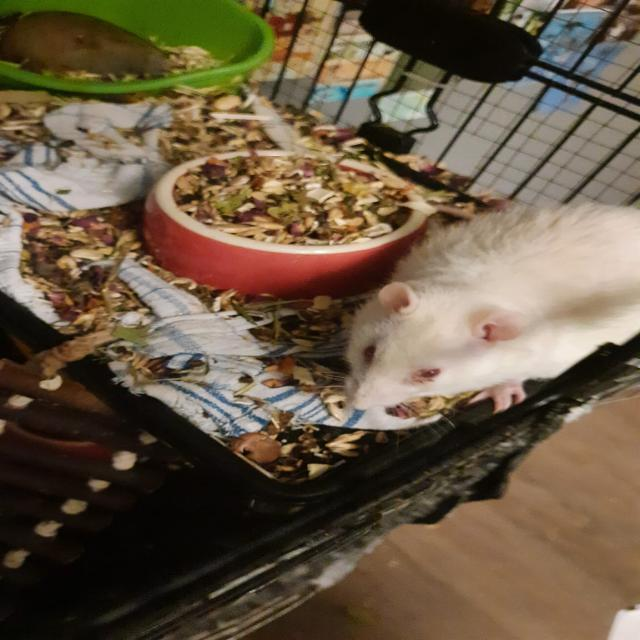rat: (337, 197, 640, 414)
